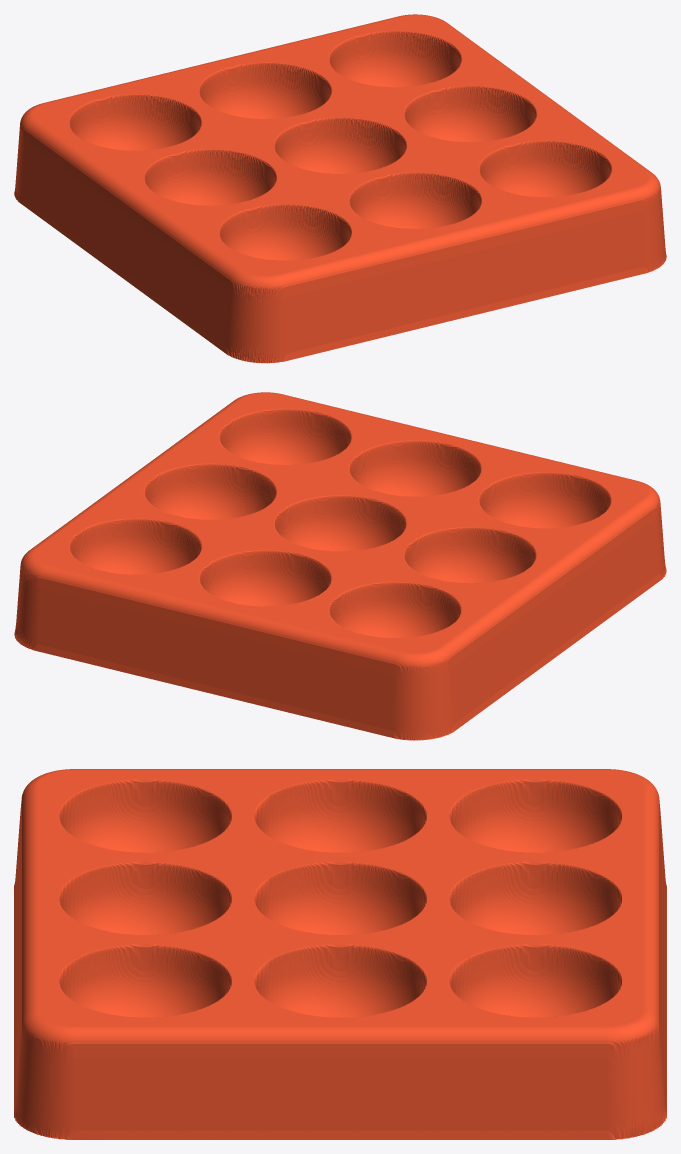
The model's file is mold.glb.
The picture shows the model from 3 angles, top to bottom: view 1: azimuth 30°, elevation 25°; view 2: azimuth 150°, elevation 25°; view 3: azimuth 270°, elevation 25°; orthographic projection. The views are drawn at different scales.
Visible parts, largest first — view 1: geometry_0; view 2: geometry_0; view 3: geometry_0.
Part boxes in pixels (<box>): geometry_0: <box>14,14,666,363</box>; geometry_0: <box>14,392,666,740</box>; geometry_0: <box>14,769,666,1139</box>.
Bounding box in the file's own units: 0.0984 × 0.0172 × 0.0984.
